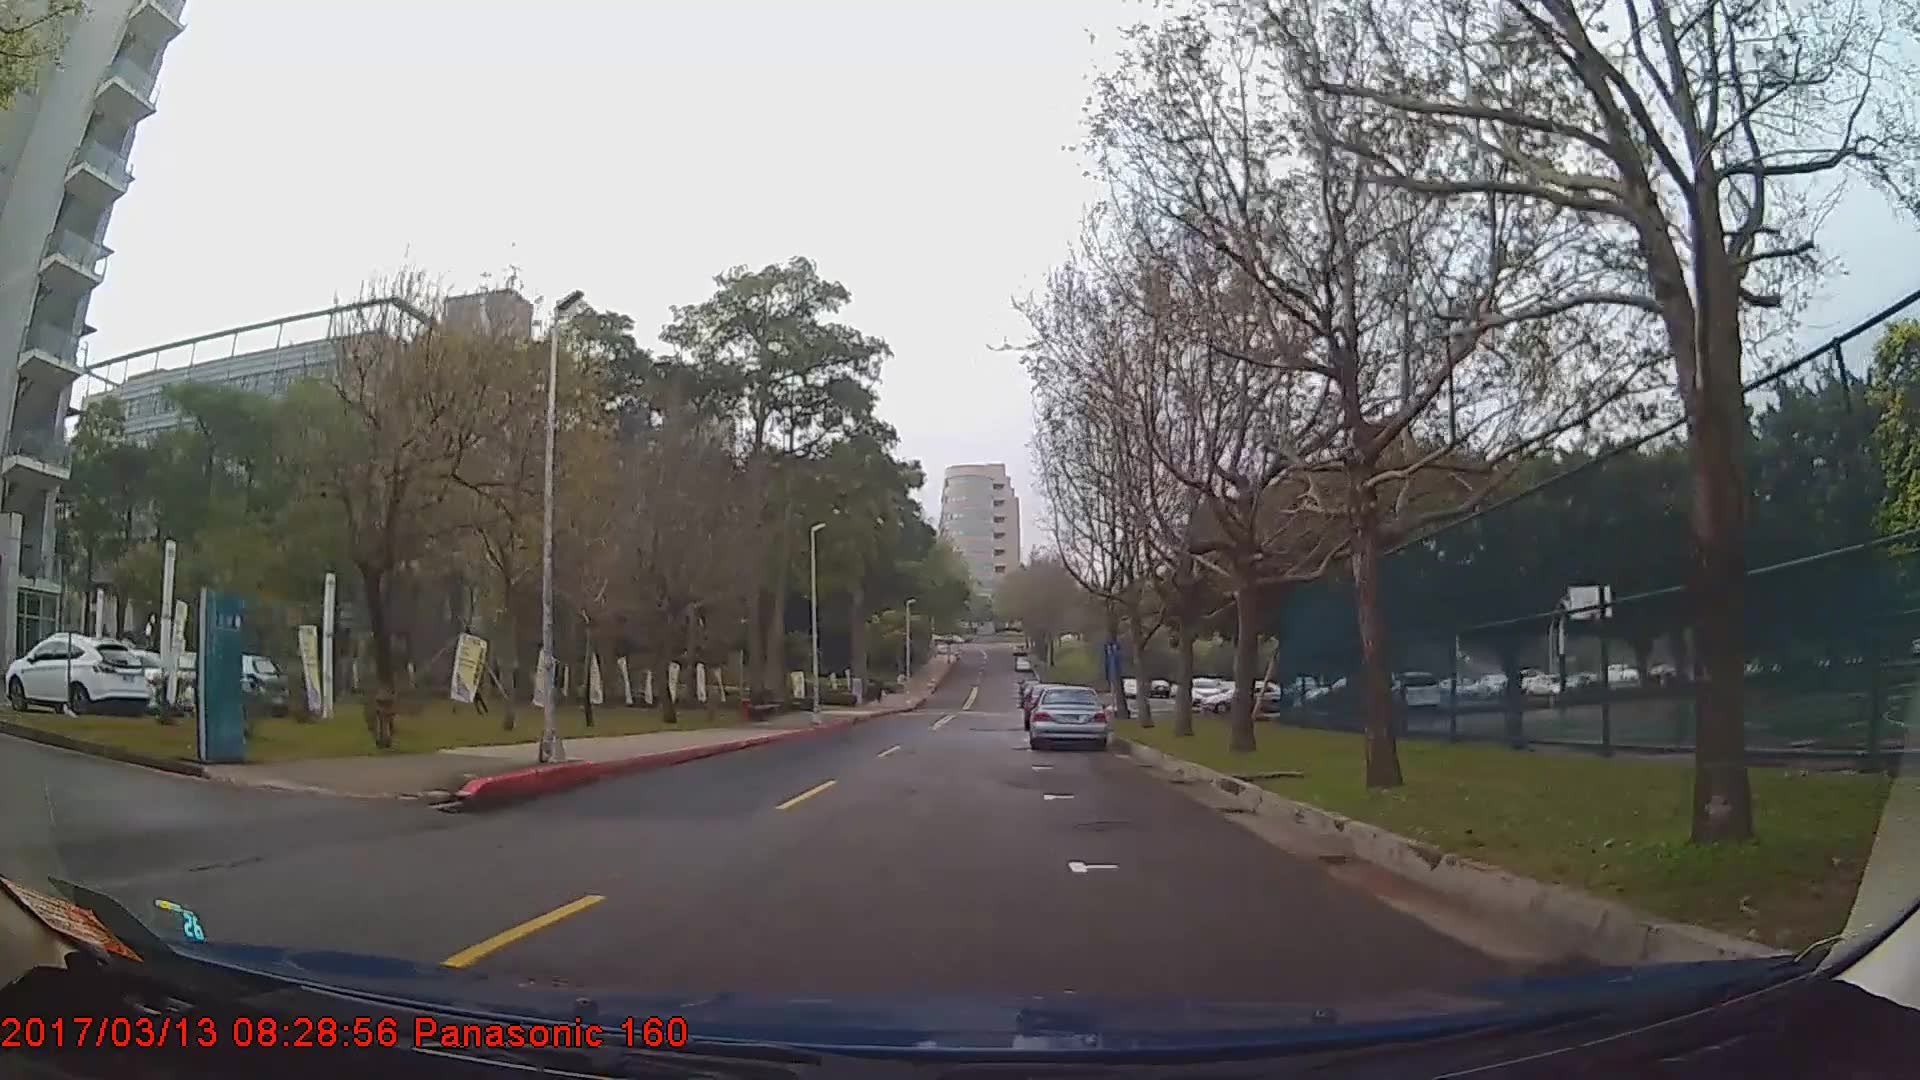vehicle: (9, 632, 146, 716), (65, 645, 194, 709), (1029, 684, 1106, 752)
